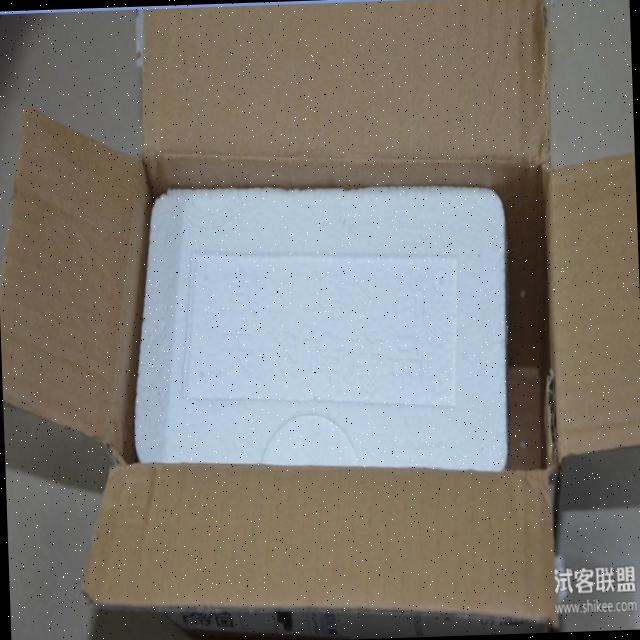styrofoam: (0, 0, 640, 640), (123, 172, 516, 483)
